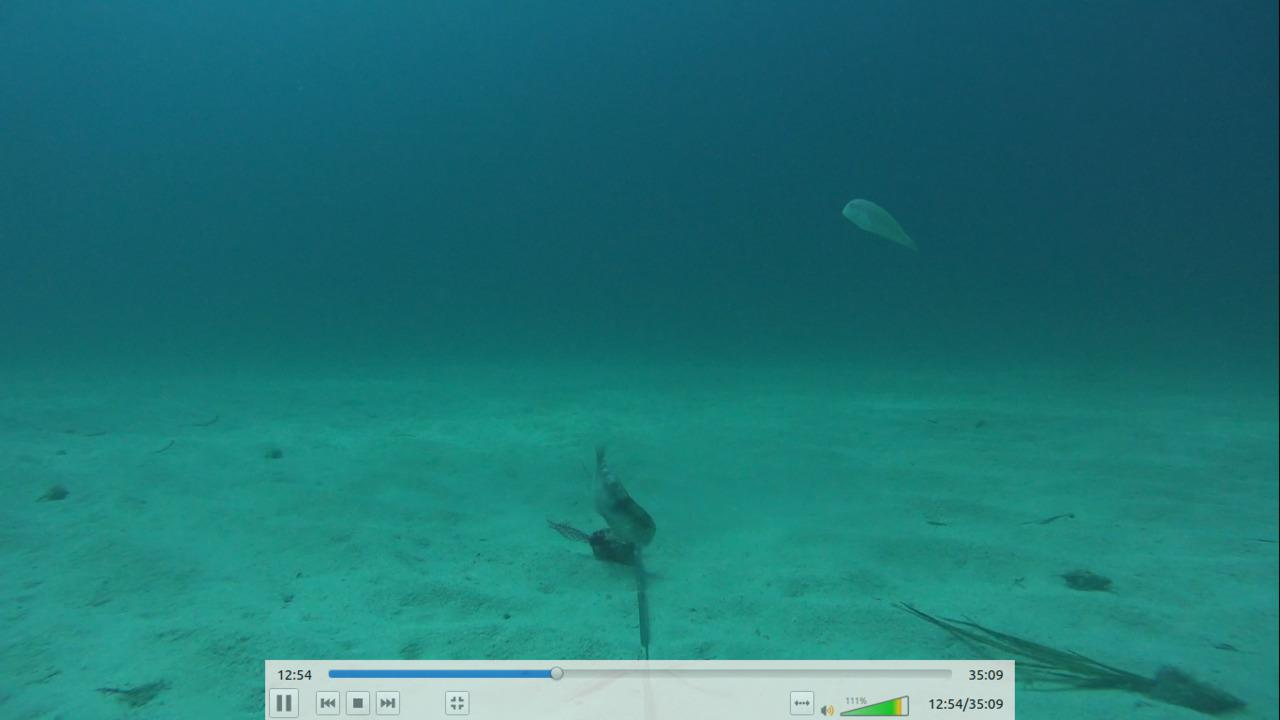raor: (590, 433, 656, 551), (837, 192, 913, 258)
